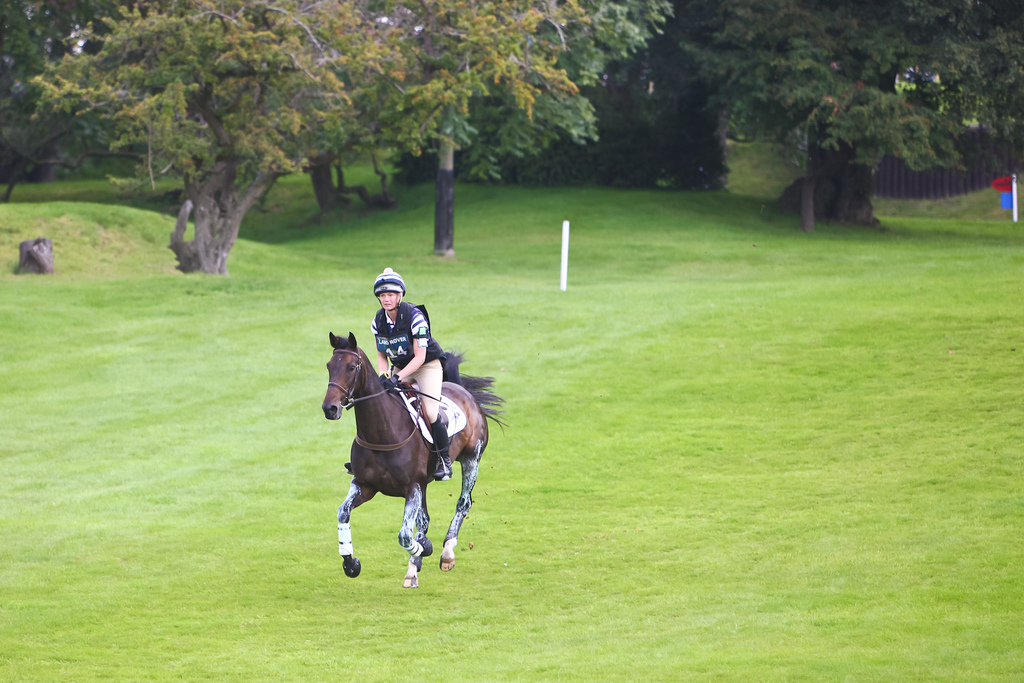Person: (369, 266, 453, 481)
